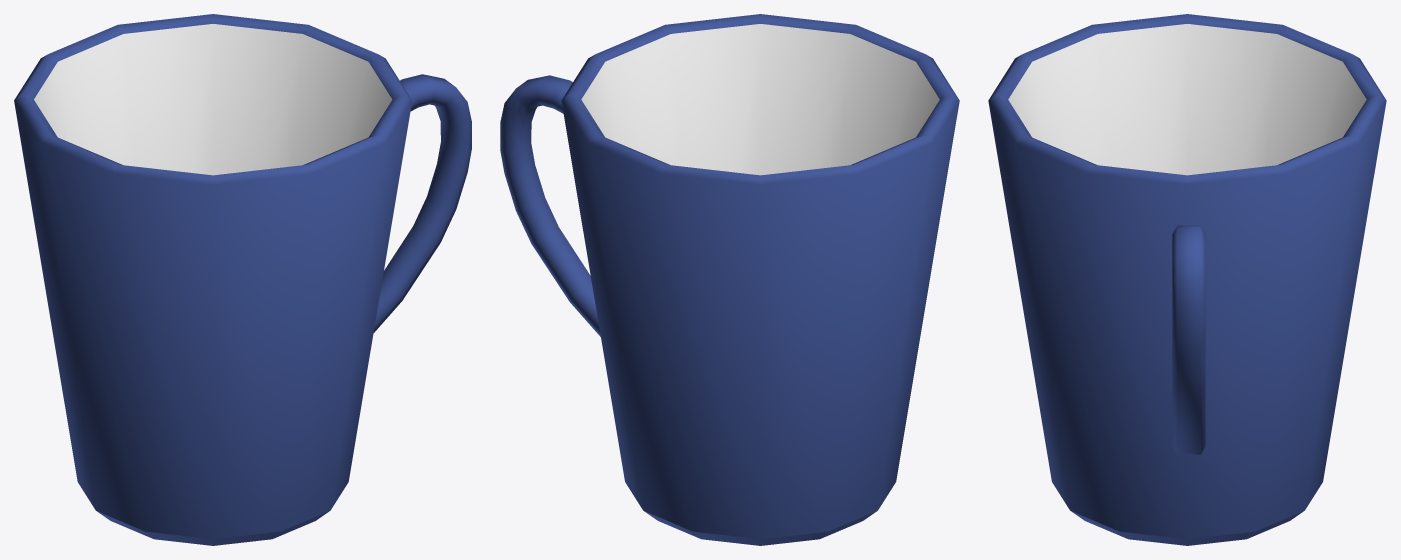
Rendered from Mug_02.fbx.
3 views of the same model, side by side, from view 1: azimuth 30°, elevation 25°; view 2: azimuth 150°, elevation 25°; view 3: azimuth 270°, elevation 25° (orthographic).
Visible parts, largest first — view 1: Mug_02; view 2: Mug_02; view 3: Mug_02.
Boxes of the visible parts, x1,y1,x2,y2 form: Mug_02: [14, 14, 471, 545]; Mug_02: [500, 14, 959, 545]; Mug_02: [988, 14, 1386, 545].
Size of the model in its own units: 0.1436 by 0.1292 by 0.1163.
